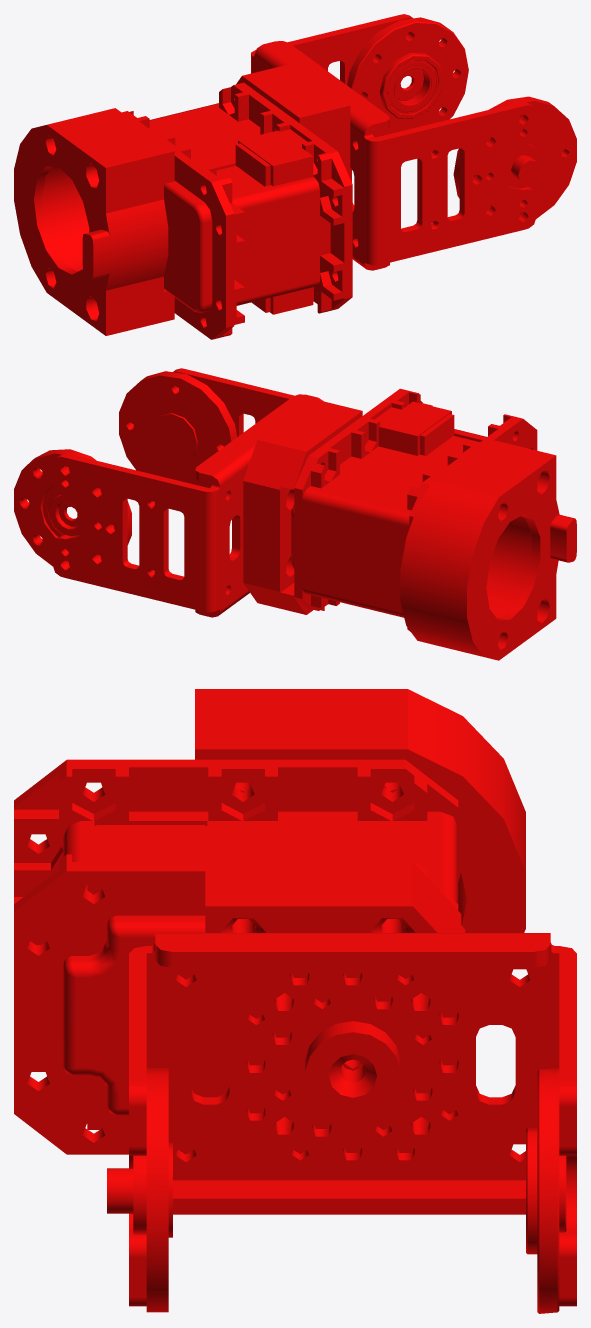
Rendered from Shoulder_Pitch.dae.
3 views of the same model, one above another, from view 1: azimuth 30°, elevation 25°; view 2: azimuth 150°, elevation 25°; view 3: azimuth 270°, elevation 25° (orthographic). The views are drawn at different scales.
Visible parts, largest first — view 1: ShoulderPitch; view 2: ShoulderPitch; view 3: ShoulderPitch.
Boxes of the visible parts, bbox=[...] form: ShoulderPitch: bbox=[14, 14, 576, 339]; ShoulderPitch: bbox=[14, 368, 576, 660]; ShoulderPitch: bbox=[14, 689, 576, 1313].
Size of the model in its own units: 0.1125 by 0.038 by 0.0641.
